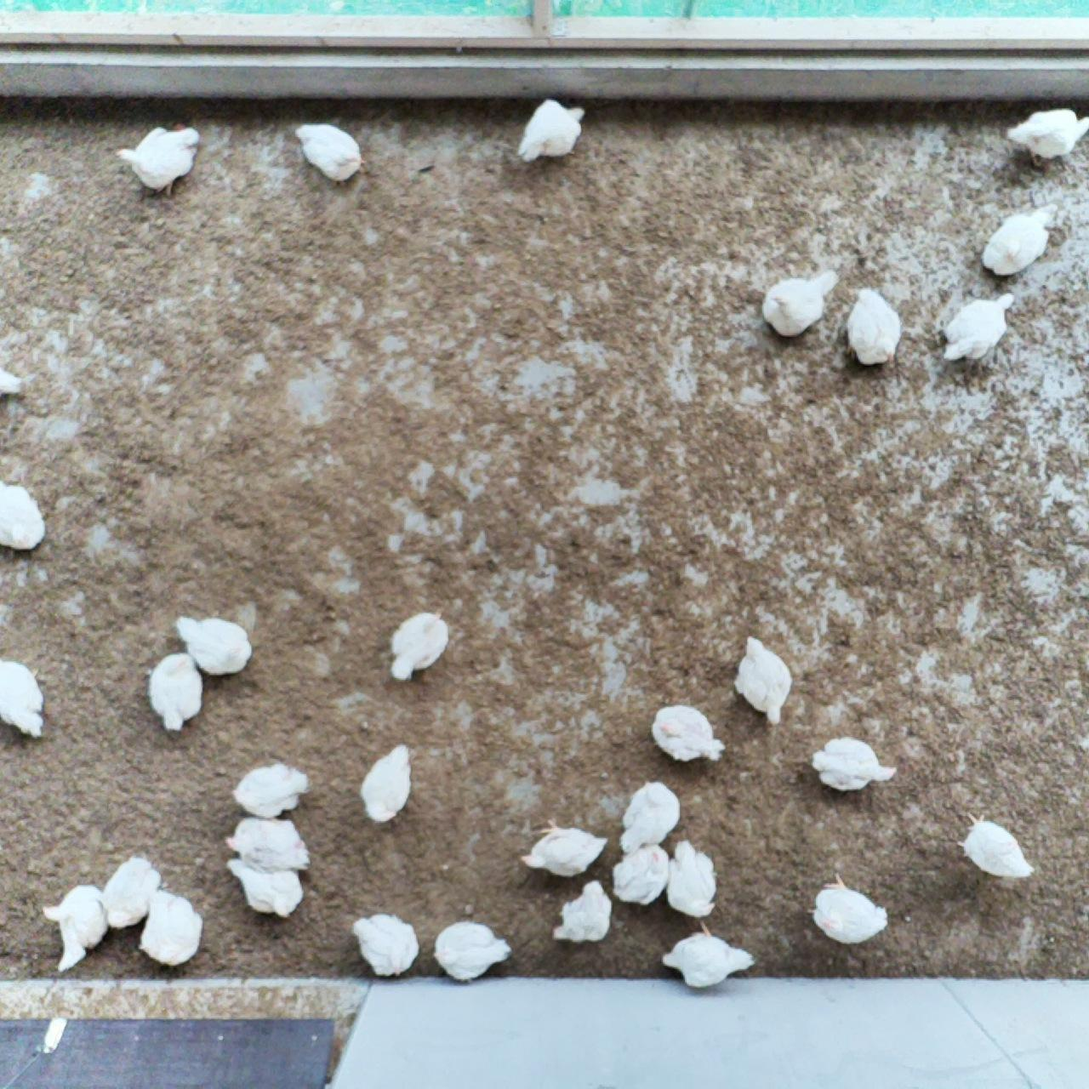chicken: (803, 869, 891, 952), (937, 289, 1020, 373), (39, 882, 111, 977), (659, 921, 758, 990), (113, 121, 204, 196), (980, 199, 1065, 278), (729, 631, 794, 727), (955, 809, 1036, 886), (805, 731, 895, 800), (382, 604, 462, 681), (758, 269, 842, 340), (519, 813, 609, 879), (290, 119, 370, 191), (223, 813, 316, 874), (843, 282, 906, 372), (1005, 101, 1089, 168), (512, 95, 588, 167), (430, 919, 514, 983), (228, 758, 312, 821), (646, 704, 728, 768), (138, 891, 205, 969), (174, 613, 254, 677), (225, 857, 306, 920), (144, 650, 205, 733), (619, 774, 681, 853), (358, 742, 417, 824), (352, 910, 422, 979), (666, 837, 721, 920), (550, 878, 615, 947), (110, 853, 165, 928), (0, 657, 49, 741), (610, 842, 671, 908), (0, 476, 49, 555)
